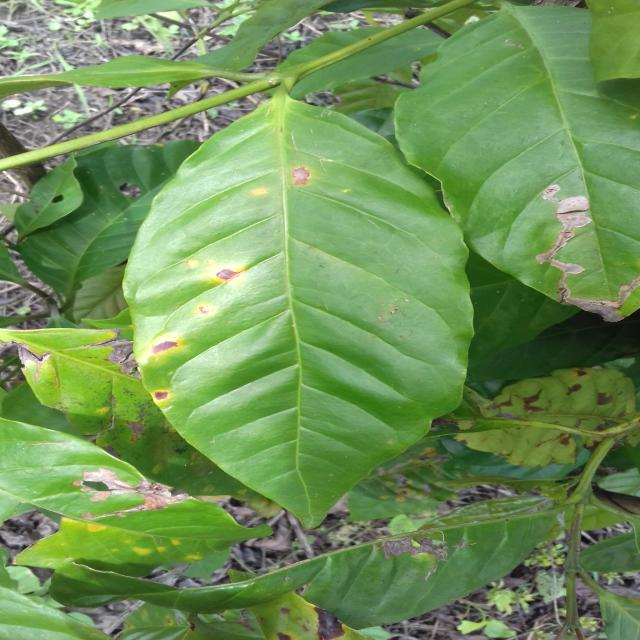Enfermedad-Roya: (123, 96, 474, 531)
